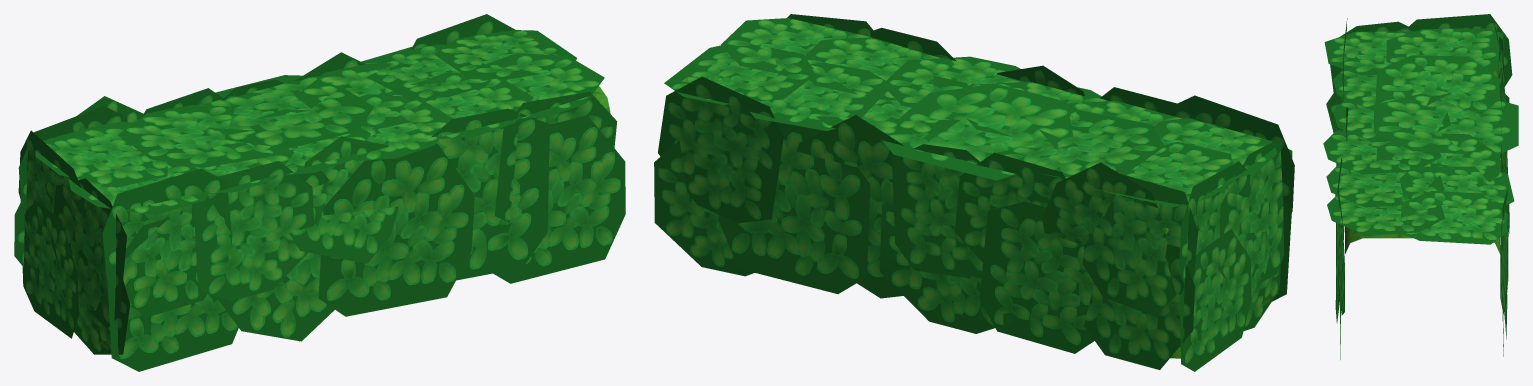
The model's file is hedge_end.fbx.
The picture shows the model from 3 angles, left to right: view 1: azimuth 30°, elevation 25°; view 2: azimuth 150°, elevation 25°; view 3: azimuth 270°, elevation 25°; orthographic projection. The views are drawn at different scales.
Visible parts, largest first — view 1: hedge_end; view 2: hedge_end; view 3: hedge_end, hedge_end_solid.
Part boxes in pixels (x1,y1,x2,y2): hedge_end: (14,14,625,371); hedge_end: (654,14,1294,371); hedge_end: (1323,14,1518,359); hedge_end_solid: (1345,69,1500,254).
Size of the model in its own units: 330 by 122 by 126.
